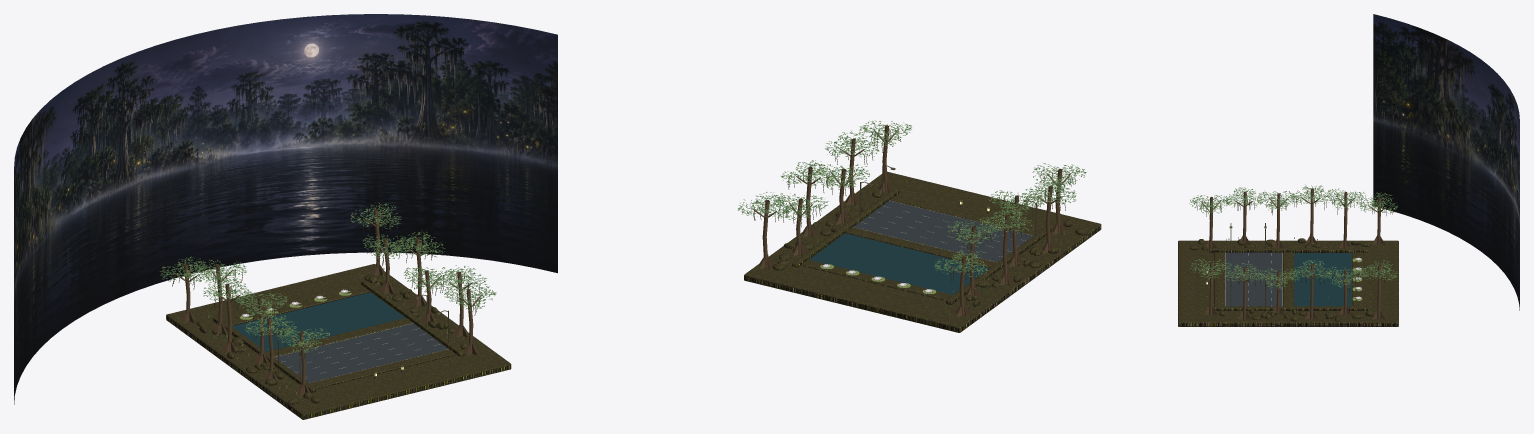
Rendered from world.glb.
The picture shows the model from 3 angles, left to right: view 1: azimuth 30°, elevation 25°; view 2: azimuth 150°, elevation 25°; view 3: azimuth 270°, elevation 25°; orthographic projection. The views are drawn at different scales.
Parts seen in each view (by area): view 1: Distant bayou cyclorama, terrain, Five-lane road, Moonlit river surface, Grassy safe bank 0, Grassy safe bank 6, right-berm, Grassy safe bank 12, left-berm; view 2: terrain, Moonlit river surface, Five-lane road, Grassy safe bank 6, Grassy safe bank 0, Grassy safe bank 12, right-berm, left-berm; view 3: Distant bayou cyclorama, terrain, Five-lane road, Moonlit river surface, left-berm, right-berm, Grassy safe bank 6, Grassy safe bank 0, Grassy safe bank 12.
Part boxes in pixels (x1,y1,x2,y2): Distant bayou cyclorama: [14, 14, 557, 404]; terrain: [166, 264, 511, 419]; Five-lane road: [274, 323, 447, 382]; Moonlit river surface: [232, 292, 405, 351]; Grassy safe bank 0: [309, 349, 455, 388]; Grassy safe bank 6: [267, 318, 412, 356]; right-berm: [361, 280, 464, 356]; Grassy safe bank 12: [224, 286, 369, 325]; left-berm: [213, 316, 316, 392]; terrain: [744, 171, 1101, 332]; Moonlit river surface: [809, 233, 988, 294]; Five-lane road: [853, 200, 1033, 262]; Grassy safe bank 6: [845, 227, 996, 268]; Grassy safe bank 0: [890, 195, 1041, 235]; Grassy safe bank 12: [801, 259, 952, 300]; right-berm: [792, 188, 899, 267]; left-berm: [945, 226, 1052, 304]; Distant bayou cyclorama: [1373, 14, 1519, 310]; terrain: [1178, 240, 1398, 326]; Five-lane road: [1225, 252, 1282, 306]; Moonlit river surface: [1294, 253, 1351, 306]; left-berm: [1209, 248, 1367, 252]; right-berm: [1213, 306, 1367, 310]; Grassy safe bank 6: [1283, 252, 1293, 306]; Grassy safe bank 0: [1214, 252, 1224, 306]; Grassy safe bank 12: [1352, 252, 1362, 306].
Size of the model in its own units: 57.25 by 24 by 38.7.
12 materials, 3 textured.
